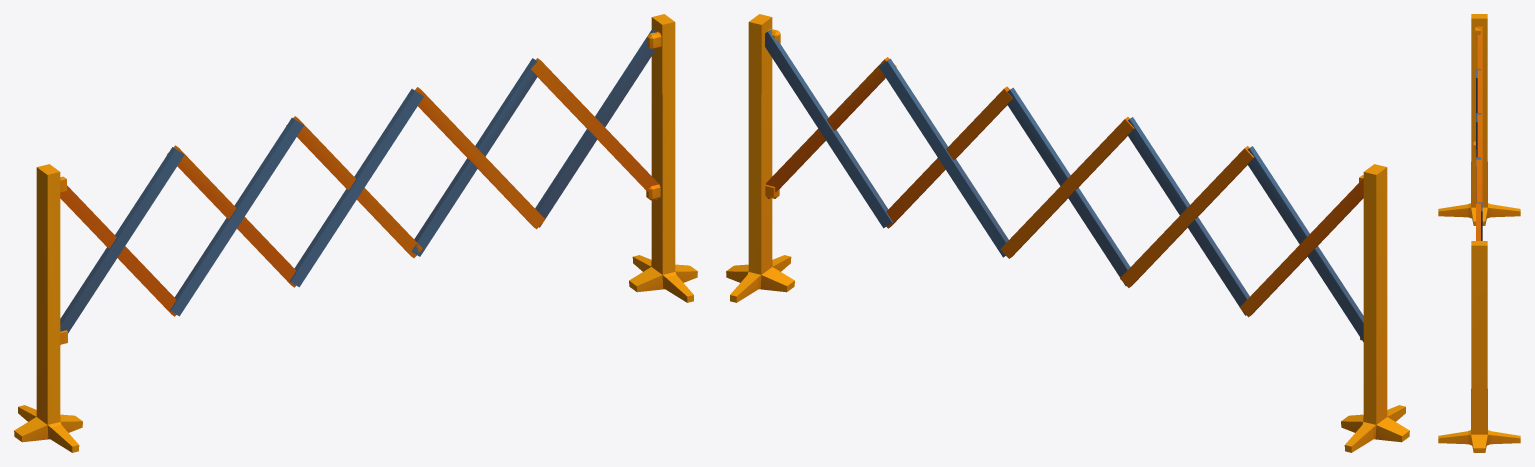
The model's file is MetalBarrier_Single.fbx.
The picture shows the model from 3 angles, left to right: view 1: azimuth 30°, elevation 25°; view 2: azimuth 150°, elevation 25°; view 3: azimuth 270°, elevation 25°; orthographic projection. The views are drawn at different scales.
Visible parts, largest first — view 1: MetalBarrier_Single; view 2: MetalBarrier_Single; view 3: MetalBarrier_Single.
Part boxes in pixels (x1,y1,x2,y2): MetalBarrier_Single: [14, 14, 697, 452]; MetalBarrier_Single: [726, 14, 1409, 452]; MetalBarrier_Single: [1438, 14, 1520, 452].
Bounding box in the file's own units: 364 × 137 × 50.88.
